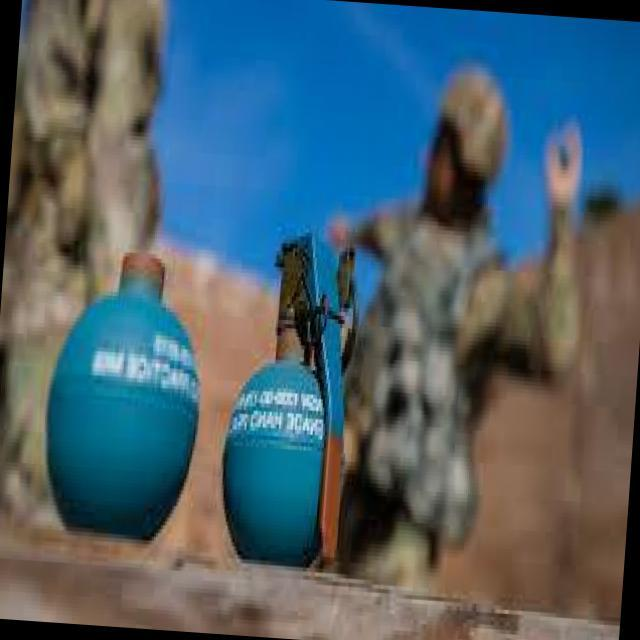grenade: (215, 227, 368, 574)
